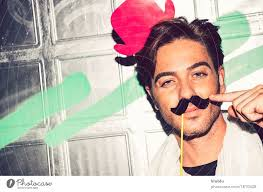white_male: (149, 55, 222, 134)
